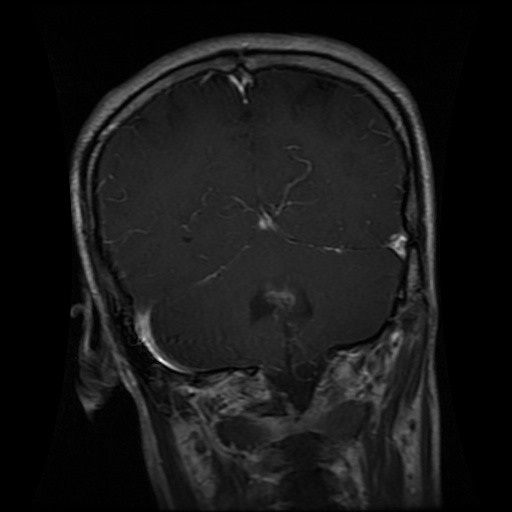glioma: (243, 276, 313, 335)
